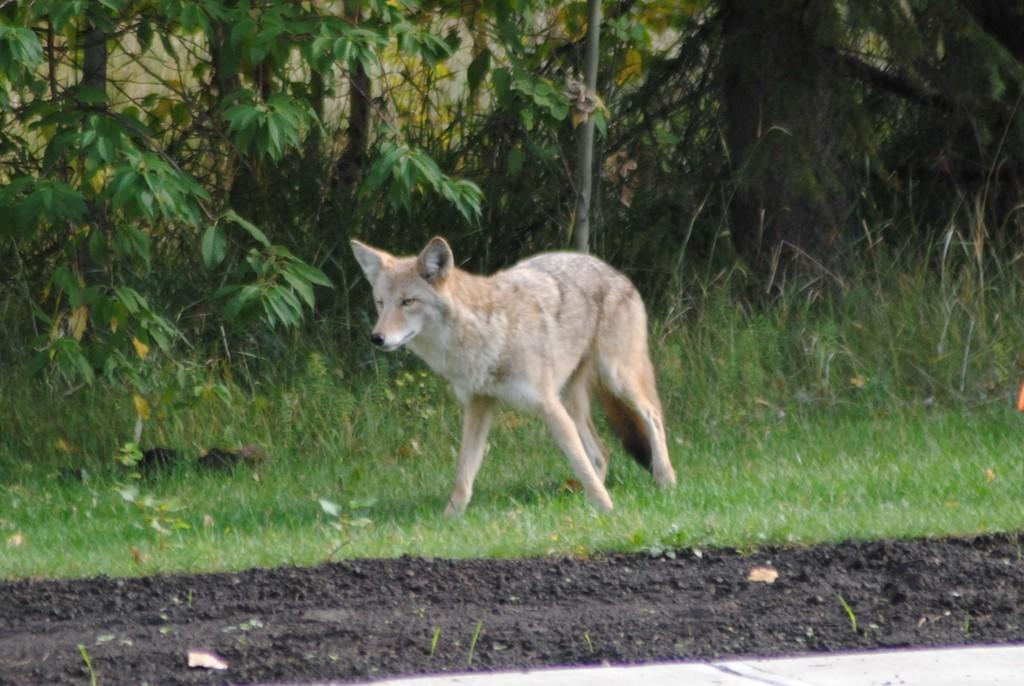Coyote: (347, 232, 681, 521)
